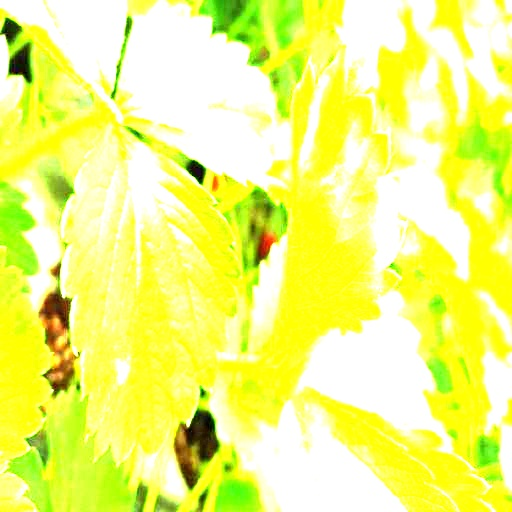Powdery Mildew Leaf: (59, 122, 243, 467), (260, 24, 409, 364)
